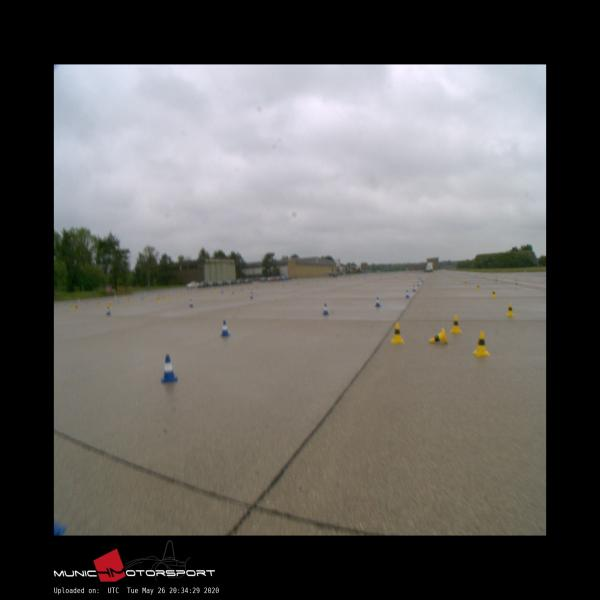blue_cone: (160, 354, 178, 382), (219, 319, 230, 336), (323, 303, 329, 314), (375, 296, 381, 306), (406, 290, 410, 298)
yellow_cone: (473, 332, 489, 356), (430, 328, 448, 343), (391, 322, 404, 342), (450, 315, 461, 332), (506, 303, 514, 317), (492, 289, 496, 297)
